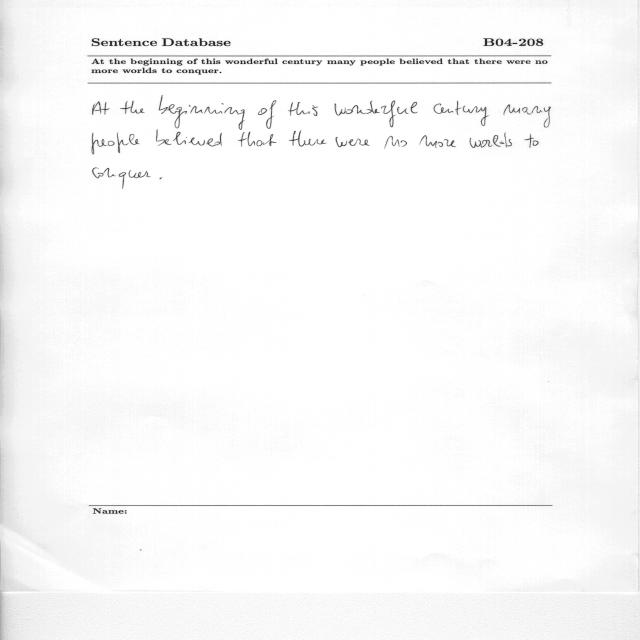word: (159, 95, 245, 130), (335, 101, 418, 128), (433, 101, 489, 126), (93, 168, 151, 189), (504, 104, 551, 128), (156, 130, 222, 147), (92, 133, 140, 155), (470, 132, 512, 148), (289, 130, 326, 147), (238, 132, 277, 147), (258, 100, 276, 129), (419, 135, 456, 148), (288, 102, 318, 116), (336, 137, 370, 147), (120, 101, 145, 114), (385, 136, 407, 149), (92, 101, 110, 115), (525, 134, 539, 148), (160, 177, 162, 179)
